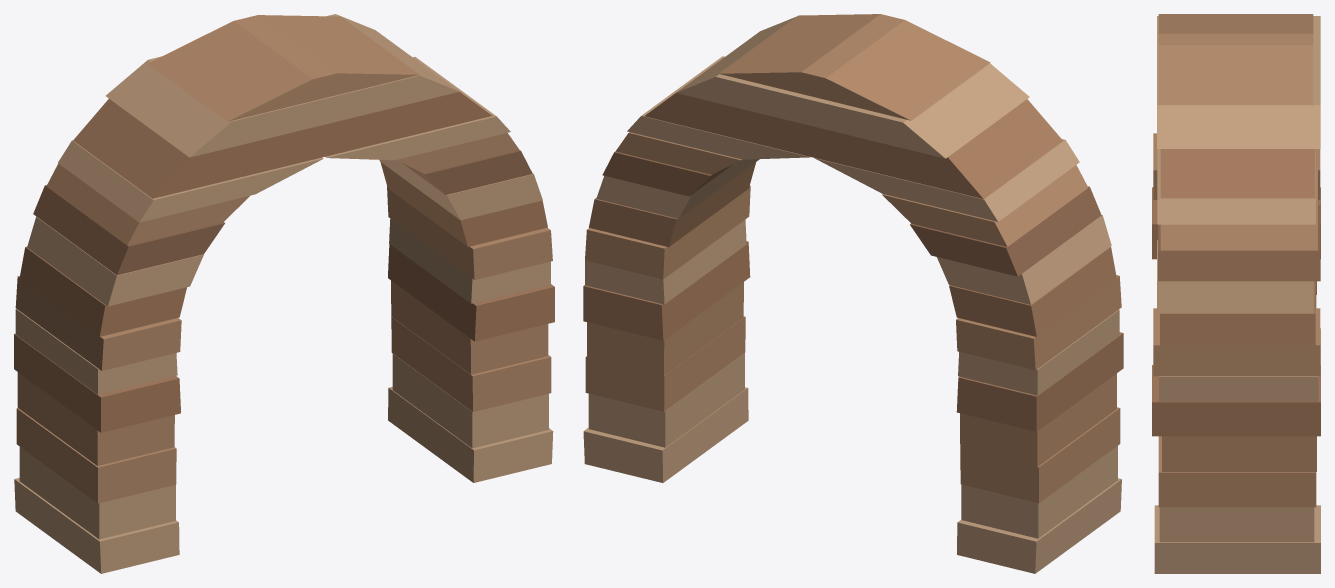
File: sandstone_arch.glb
3 views of the same model, side by side, from view 1: azimuth 30°, elevation 25°; view 2: azimuth 150°, elevation 25°; view 3: azimuth 270°, elevation 25° (orthographic). The views are drawn at different scales.
Parts seen in each view (by area): view 1: sandstone_arch; view 2: sandstone_arch; view 3: sandstone_arch.
Part boxes in pixels (box(x1,y1,x2,y2)): sandstone_arch: box(14, 14, 554, 573); sandstone_arch: box(583, 14, 1123, 573); sandstone_arch: box(1152, 14, 1320, 573).
Bounding box in the file's own units: 7 × 6.5 × 2.32.
